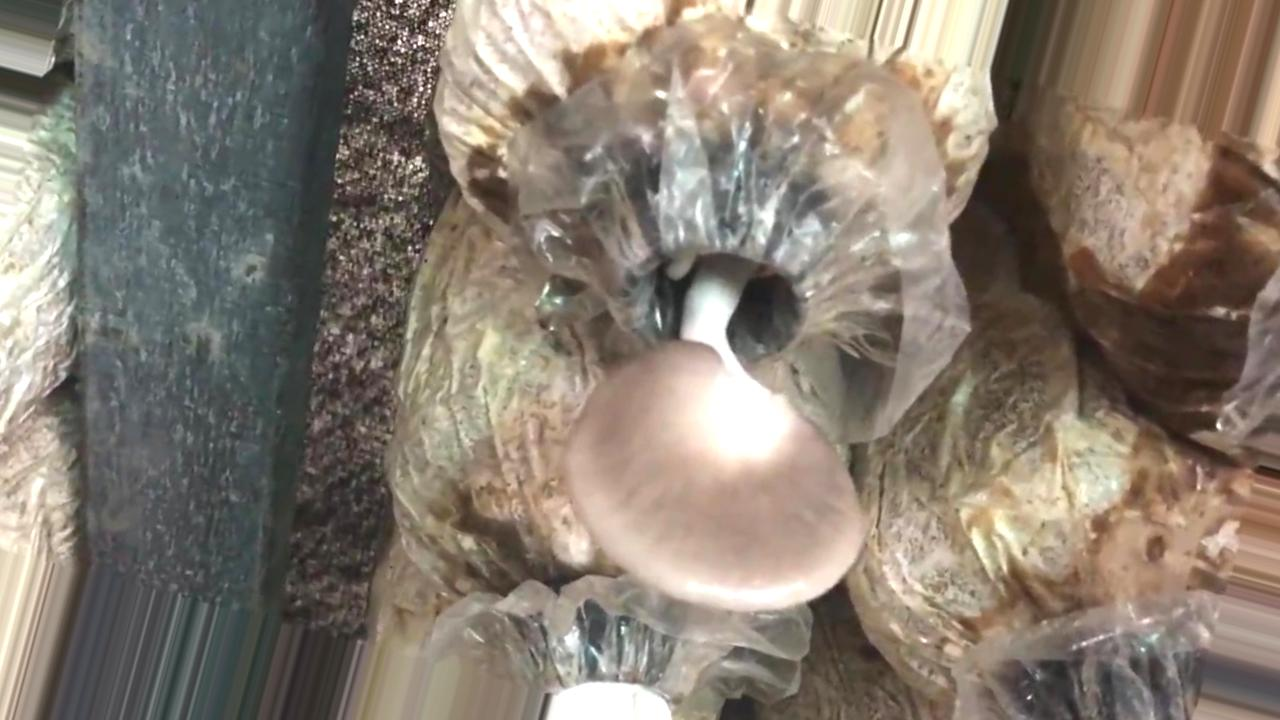nam: (566, 181, 871, 621)
